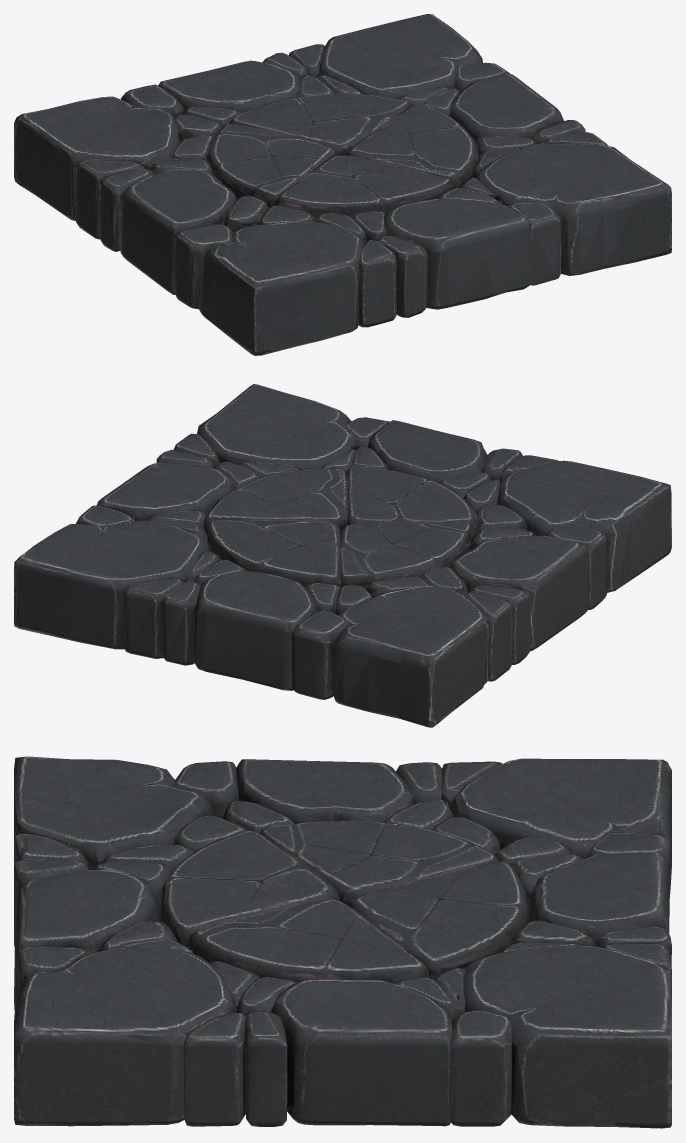
File: void_broken.glb
3 views of the same model, one above another, from view 1: azimuth 30°, elevation 25°; view 2: azimuth 150°, elevation 25°; view 3: azimuth 270°, elevation 25° (orthographic). The views are drawn at different scales.
Size of the model in its own units: 1 by 0.167 by 1.
1 material, 1 textured.
